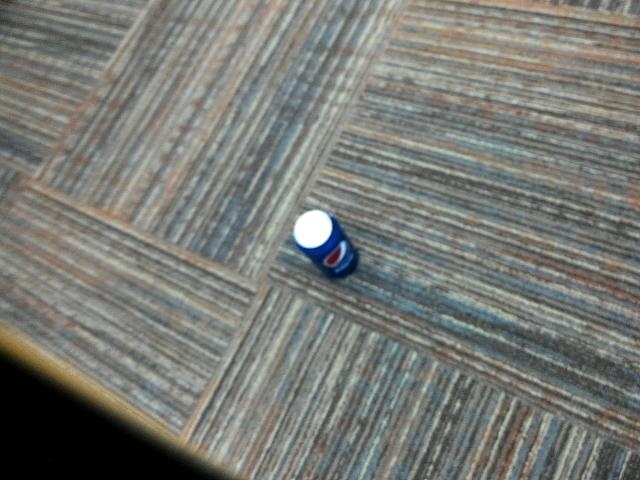can: (286, 206, 364, 280)
